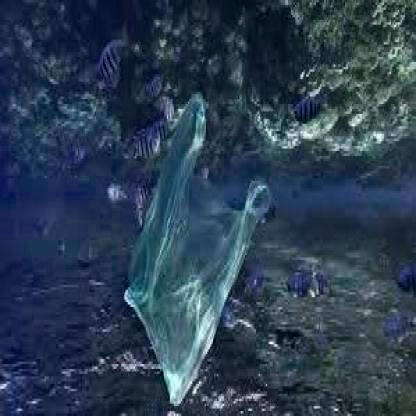pbag: (122, 92, 272, 408)
